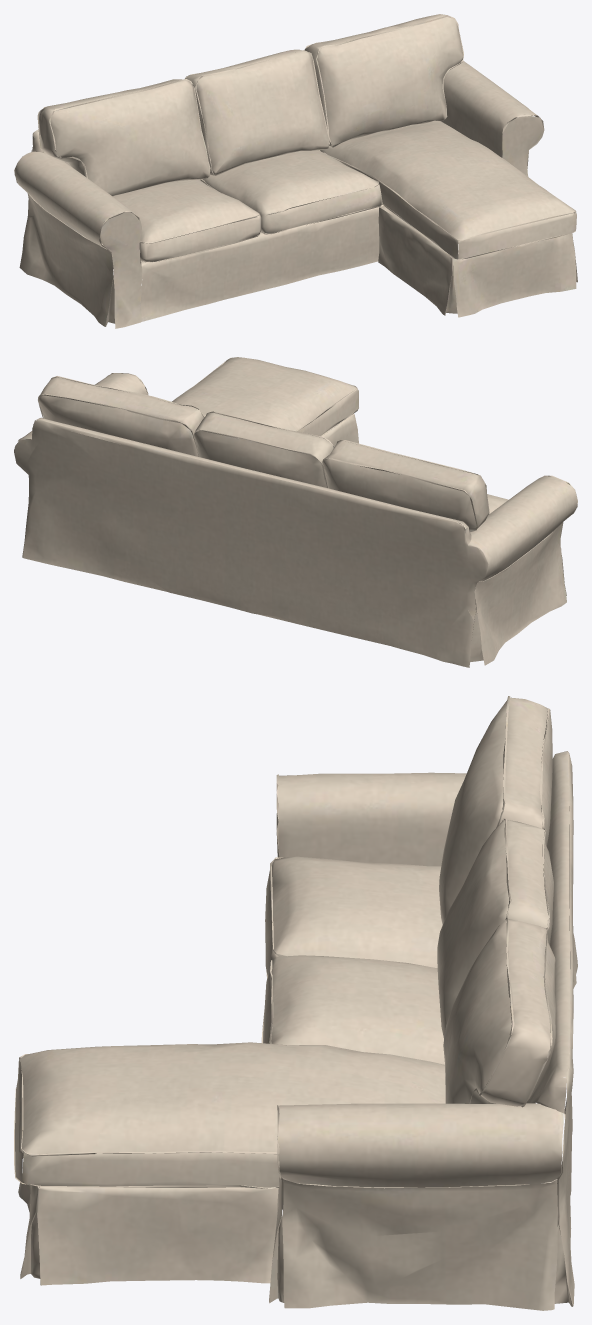
File: 18 - EKTORP 3-seat sofa with chaise longue - Kilanda light beige.glb
The picture shows the model from 3 angles, top to bottom: view 1: azimuth 30°, elevation 25°; view 2: azimuth 150°, elevation 25°; view 3: azimuth 270°, elevation 25°; orthographic projection. The views are drawn at different scales.
Parts seen in each view (by area): view 1: Mesh_0; view 2: Mesh_0; view 3: Mesh_0.
Part boxes in pixels (x1,y1,x2,y2): Mesh_0: (14, 14, 577, 328); Mesh_0: (14, 357, 577, 667); Mesh_0: (14, 696, 577, 1310).
Bounding box in the file's own units: 2.52 × 0.8986 × 1.64.
1 material, 1 textured.
